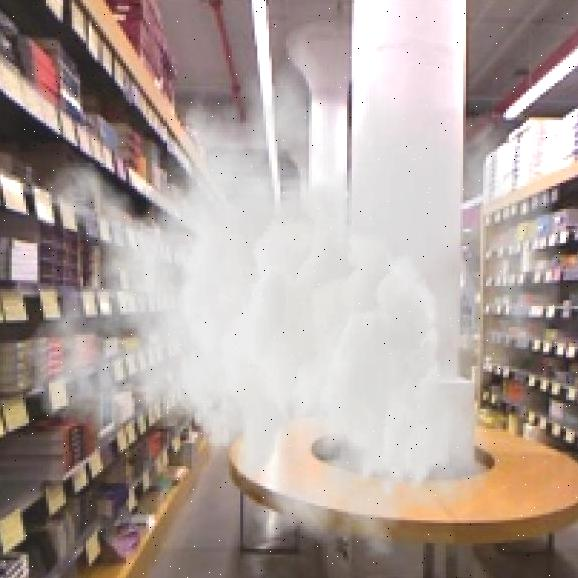smoke: (23, 9, 563, 560)
